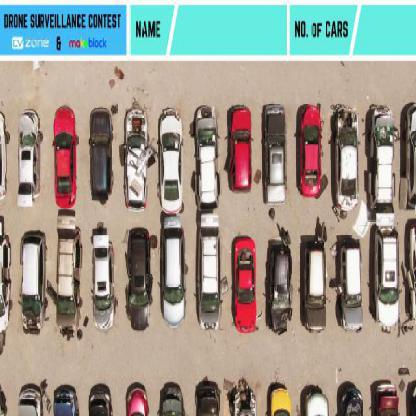car: (373, 219, 400, 330), (123, 109, 152, 212), (126, 228, 153, 333), (158, 221, 184, 329), (369, 105, 394, 208), (198, 215, 220, 332), (56, 222, 80, 329), (53, 107, 78, 209), (336, 107, 359, 216), (194, 109, 219, 209), (20, 232, 44, 334), (159, 106, 182, 212), (336, 243, 363, 333), (300, 245, 327, 334), (91, 232, 115, 332), (264, 106, 288, 204), (18, 113, 43, 207), (297, 106, 322, 199), (90, 108, 113, 204), (235, 237, 258, 331), (268, 243, 292, 332), (228, 107, 251, 191), (400, 104, 415, 216), (194, 380, 223, 415), (157, 383, 188, 415), (54, 385, 84, 415), (88, 385, 116, 415), (374, 382, 399, 415), (301, 390, 332, 415), (268, 386, 294, 415), (338, 390, 366, 415), (232, 390, 258, 415), (18, 387, 41, 415), (127, 391, 149, 415)
